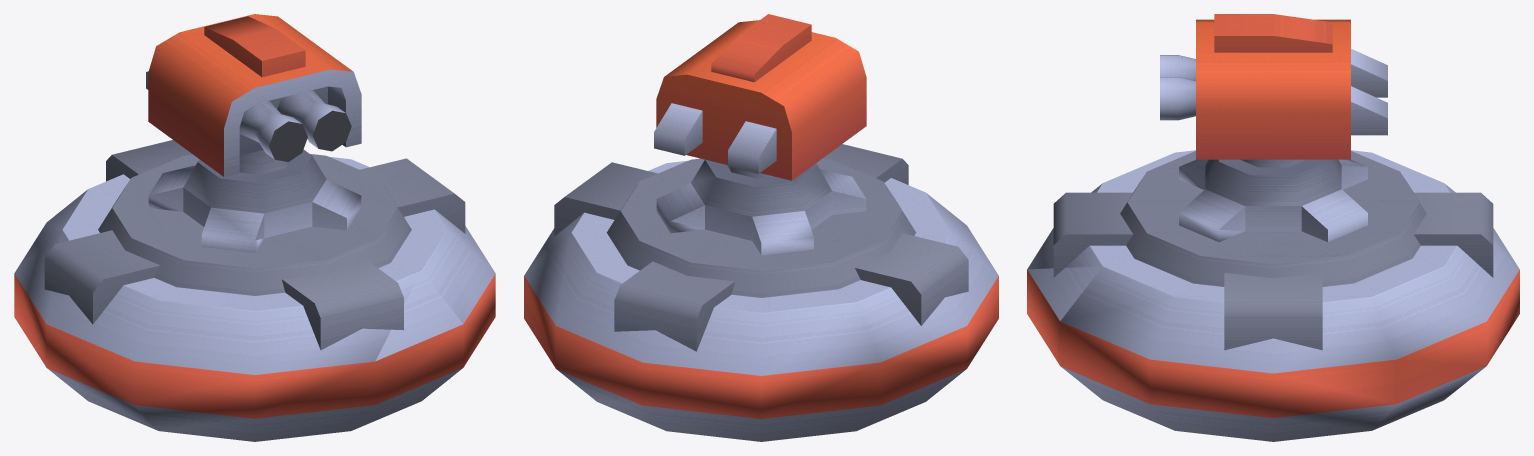
File: enemy-ufo-a-weapon.glb
3 views of the same model, side by side, from view 1: azimuth 30°, elevation 25°; view 2: azimuth 150°, elevation 25°; view 3: azimuth 270°, elevation 25° (orthographic). The views are drawn at different scales.
Parts seen in each view (by area): view 1: enemy-ufo-a-weapon, barrel; view 2: enemy-ufo-a-weapon, barrel; view 3: enemy-ufo-a-weapon, barrel.
Boxes of the visible parts, <box> form: enemy-ufo-a-weapon: <box>14,140,495,441</box>; barrel: <box>146,14,361,176</box>; enemy-ufo-a-weapon: <box>524,144,998,441</box>; barrel: <box>654,14,866,180</box>; enemy-ufo-a-weapon: <box>1027,150,1519,441</box>; barrel: <box>1160,14,1387,159</box>.
Size of the model in its own units: 1 by 0.7475 by 1.
Materials: 1 (1 with a texture image).
